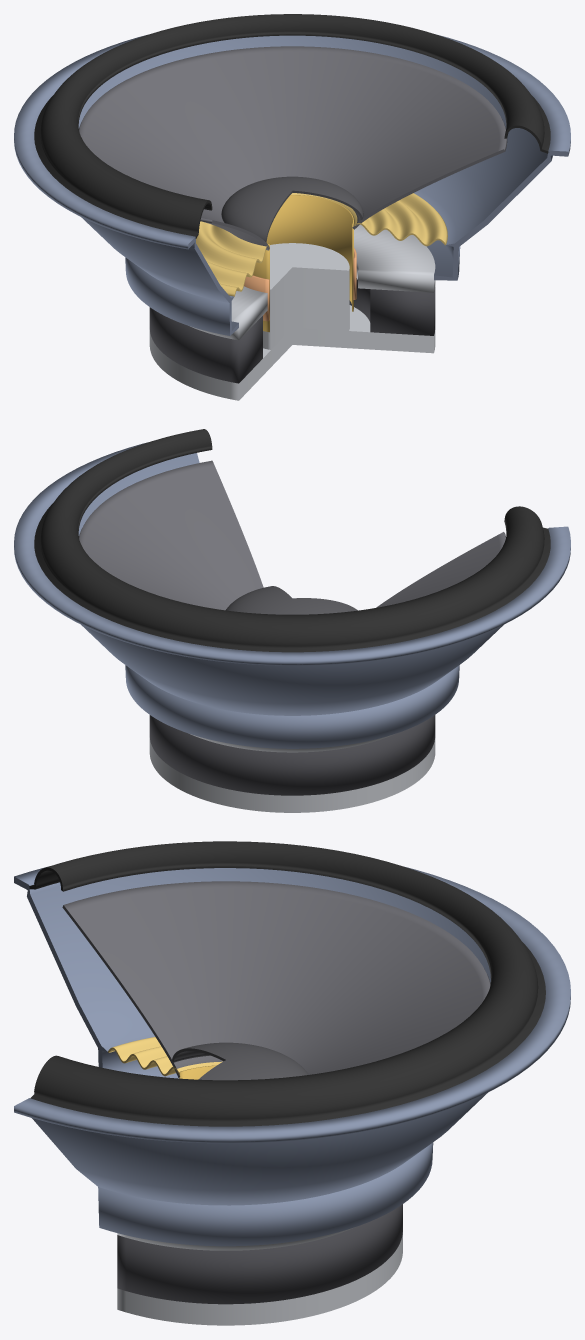
Rendered from driver.glb.
3 views of the same model, one above another, from view 1: azimuth 30°, elevation 25°; view 2: azimuth 150°, elevation 25°; view 3: azimuth 270°, elevation 25° (orthographic). The views are drawn at different scales.
Parts seen in each view (by area): view 1: Cone, Basket, Surround, Magnet, Pole piece, Spider, Top plate, Back plate, Former, Dust cap, Voice coil; view 2: Basket, Surround, Cone, Magnet, Back plate, Dust cap, Top plate; view 3: Basket, Cone, Surround, Magnet, Back plate, Dust cap, Spider, Top plate.
Part boxes in pixels (x1,y1,x2,y2): Cone: [79, 46, 507, 250]; Basket: [14, 34, 570, 335]; Surround: [34, 14, 550, 238]; Magnet: [149, 278, 435, 383]; Pole piece: [263, 243, 349, 349]; Spider: [196, 193, 447, 296]; Top plate: [190, 224, 435, 340]; Back plate: [149, 305, 435, 400]; Former: [253, 195, 353, 332]; Dust cap: [221, 176, 363, 242]; Voice coil: [244, 248, 356, 321]; Basket: [14, 442, 570, 748]; Surround: [34, 429, 550, 652]; Cone: [79, 460, 505, 610]; Magnet: [149, 715, 435, 795]; Back plate: [149, 738, 435, 812]; Dust cap: [226, 586, 357, 614]; Top plate: [190, 733, 395, 752]; Basket: [14, 866, 570, 1246]; Cone: [62, 881, 490, 1077]; Surround: [29, 841, 545, 1126]; Magnet: [117, 1204, 402, 1304]; Back plate: [117, 1232, 402, 1325]; Dust cap: [172, 1042, 308, 1080]; Spider: [108, 1037, 222, 1076]; Top plate: [117, 1227, 354, 1250].
Size of the model in its own units: 23.4 by 10.79 by 18.9.
